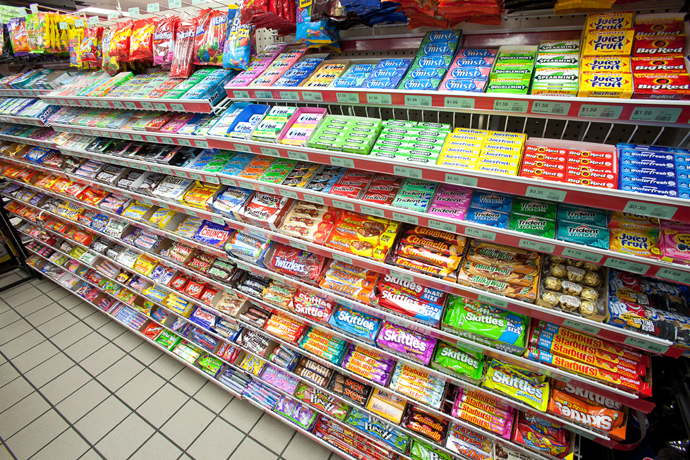Skittles: (453, 300, 529, 349), (439, 340, 482, 380)
